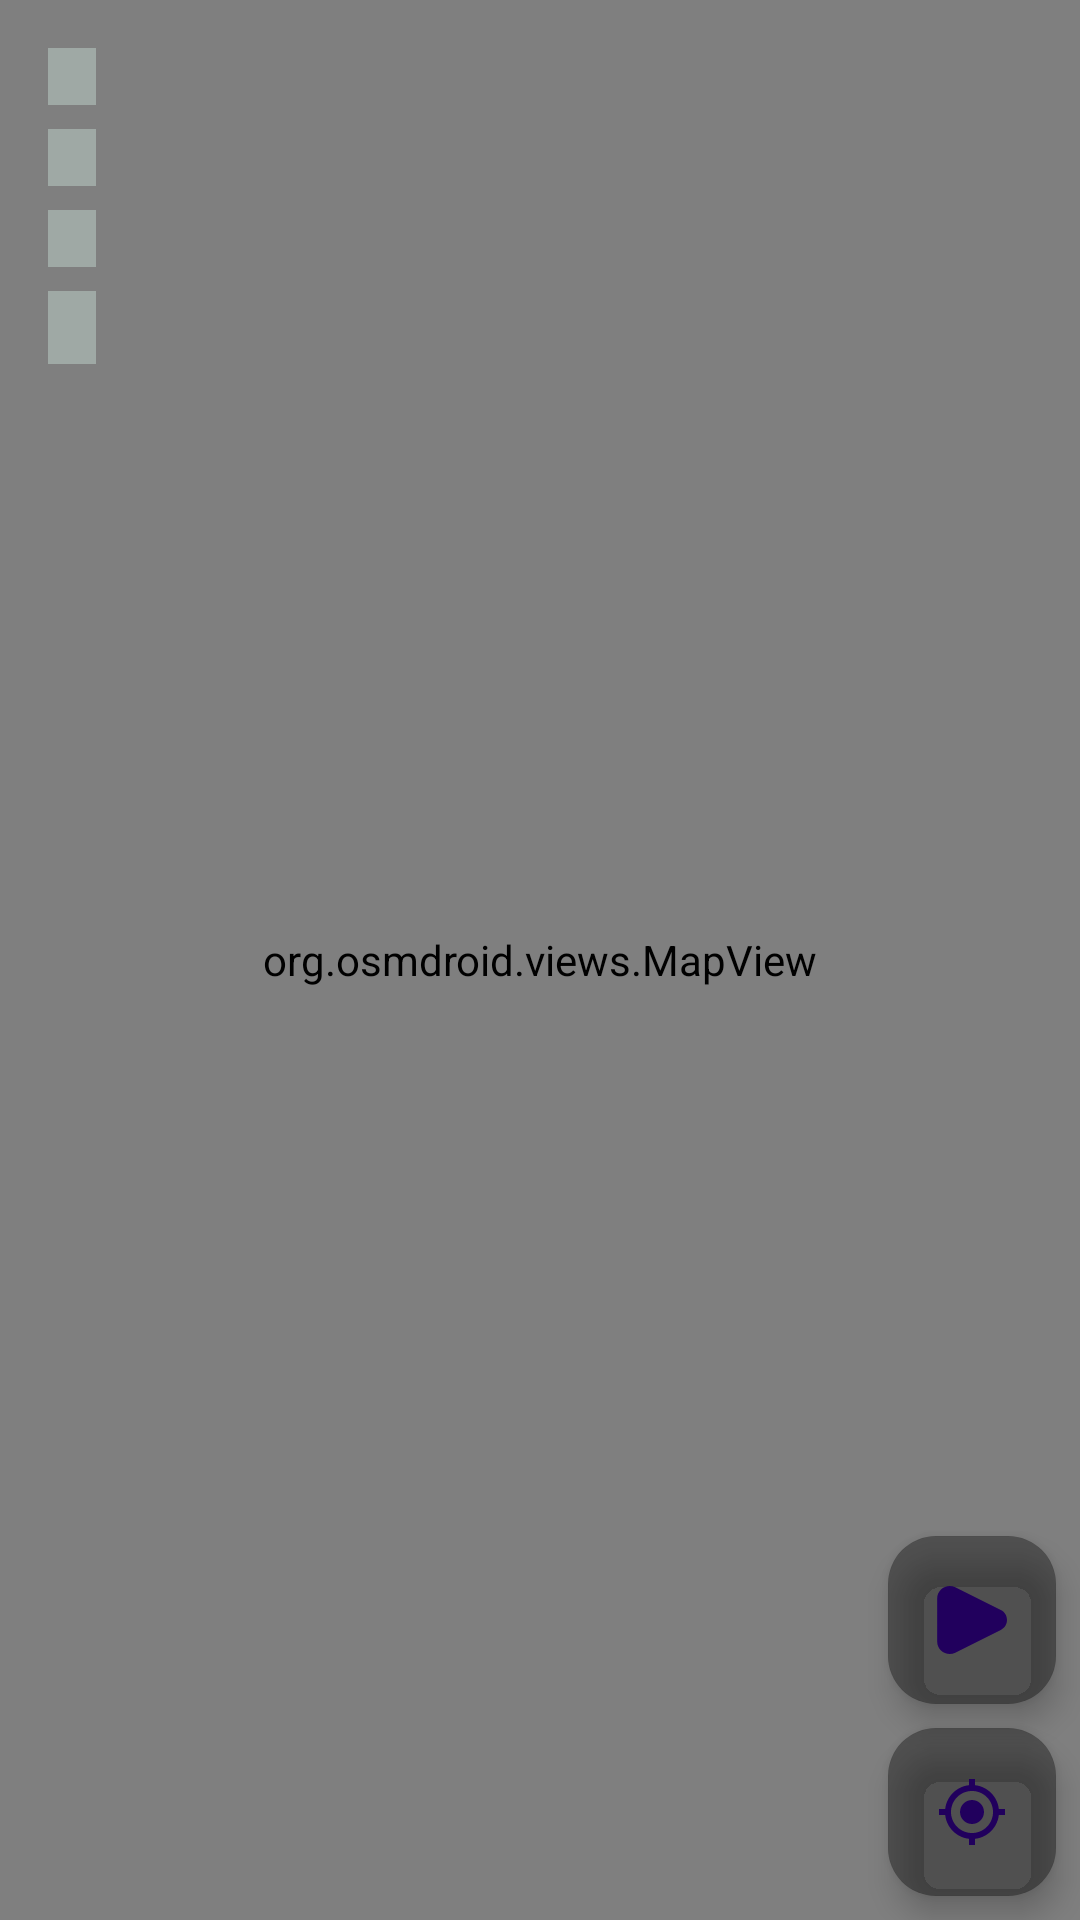

Screen size 1080w x 1920h. Icon name, then its center in pixels as [x,y]:
center to location: [972,1812]
start track: [972,1620]
